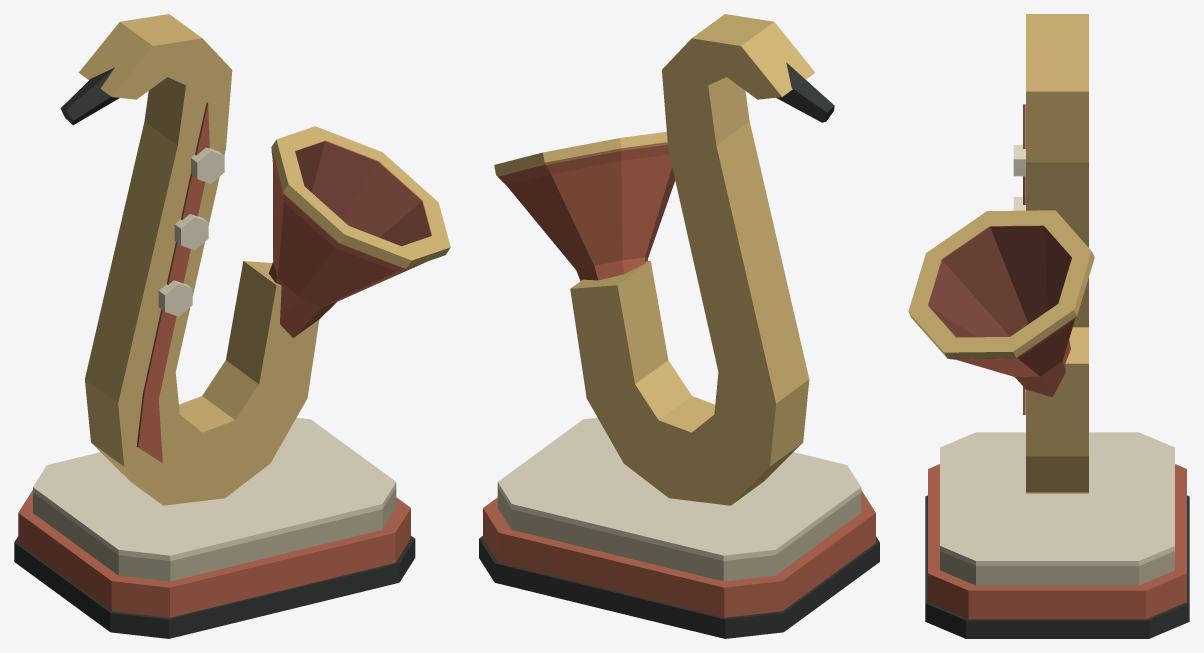
The model's file is sax.glb.
3 views of the same model, side by side, from view 1: azimuth 30°, elevation 25°; view 2: azimuth 150°, elevation 25°; view 3: azimuth 270°, elevation 25° (orthographic). The views are drawn at different scales.
Visible parts, largest first — view 1: Tenor sax; view 2: Tenor sax; view 3: Tenor sax.
Boxes of the visible parts, left/top/right/bottom form: Tenor sax: left=14, top=14, right=450, bottom=638; Tenor sax: left=479, top=14, right=879, bottom=638; Tenor sax: left=908, top=14, right=1189, bottom=638.
Bounding box in the file's own units: 1.71 × 2.53 × 1.25.
